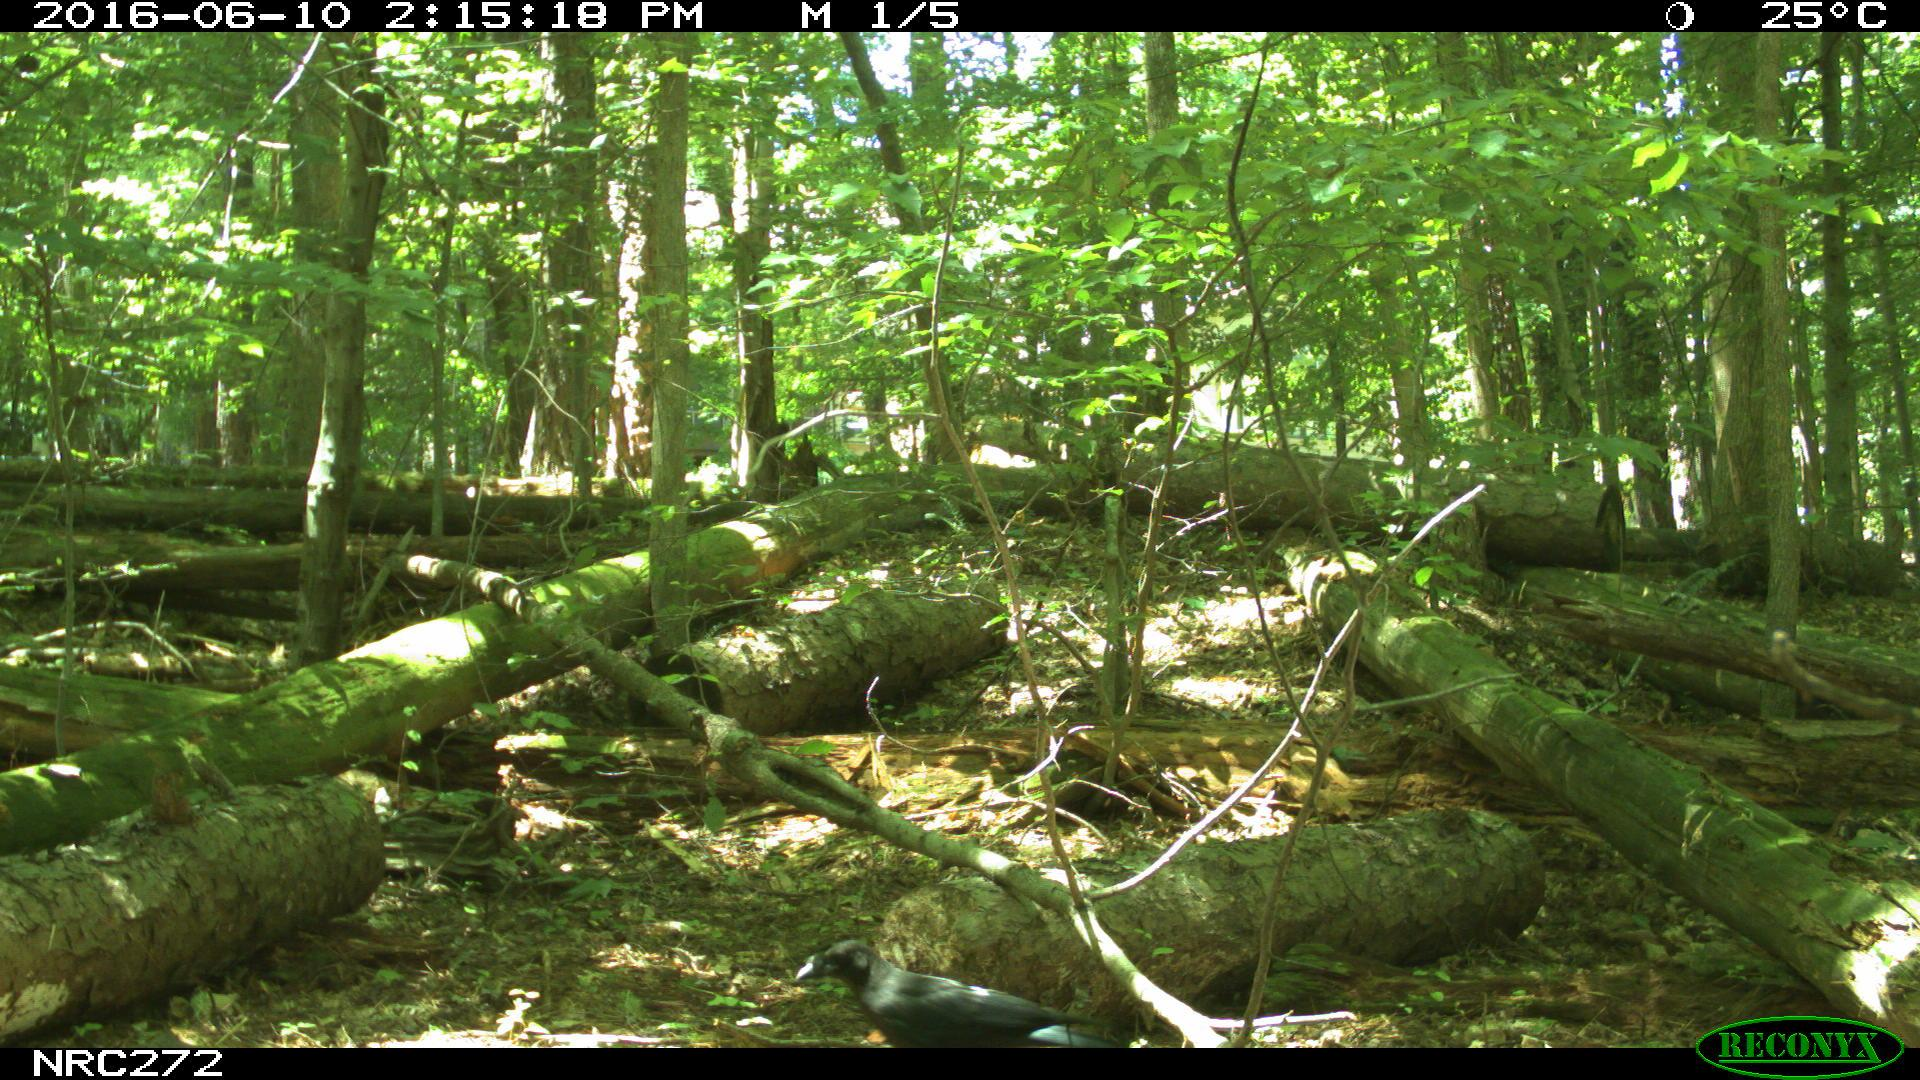Animal: (799, 940, 1112, 1055)
